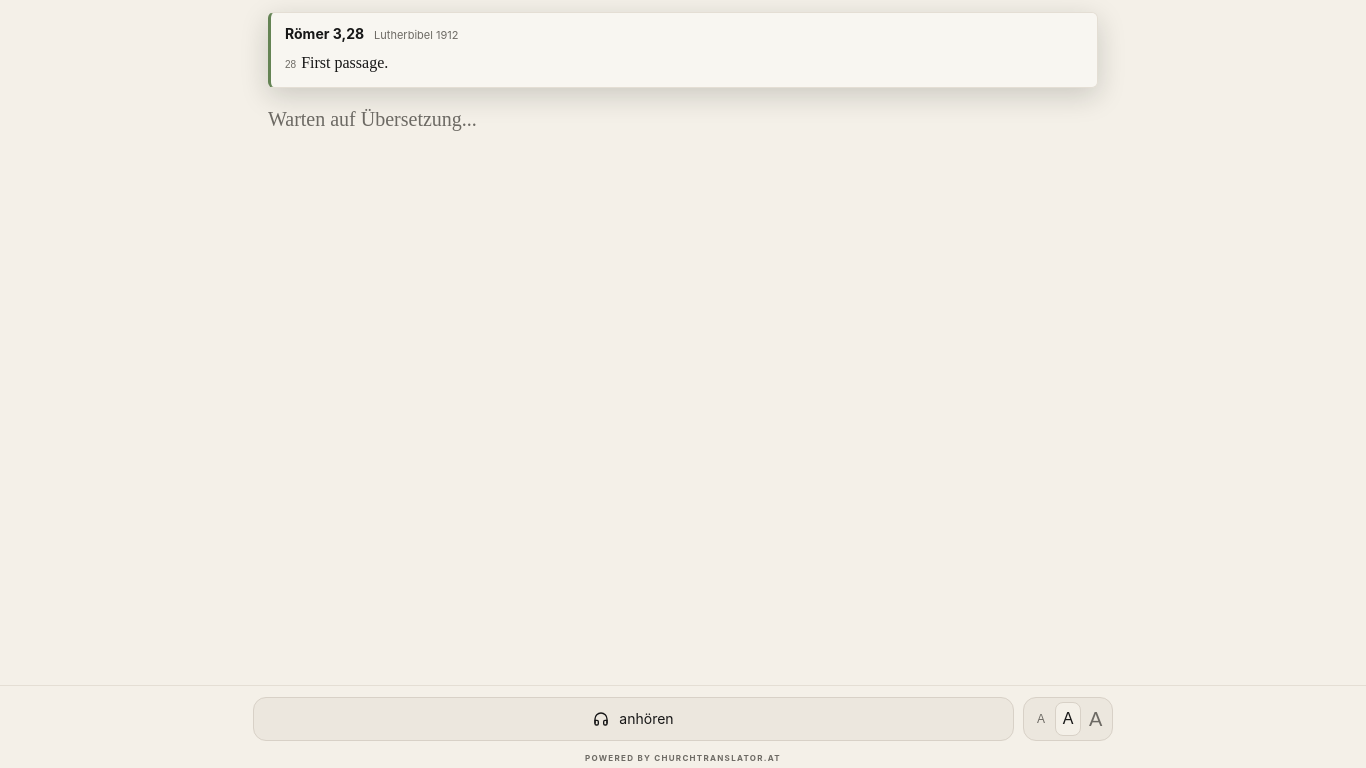
Scenario: Listener experience › shows a new scripture popup after the last card is clicked away
The width and height of the screenshot is (1366, 768).
Click the button with aria-label "Bibeltext schließen" at x=325, y=34, box [268, 12, 1098, 88]
Wait 460 ms
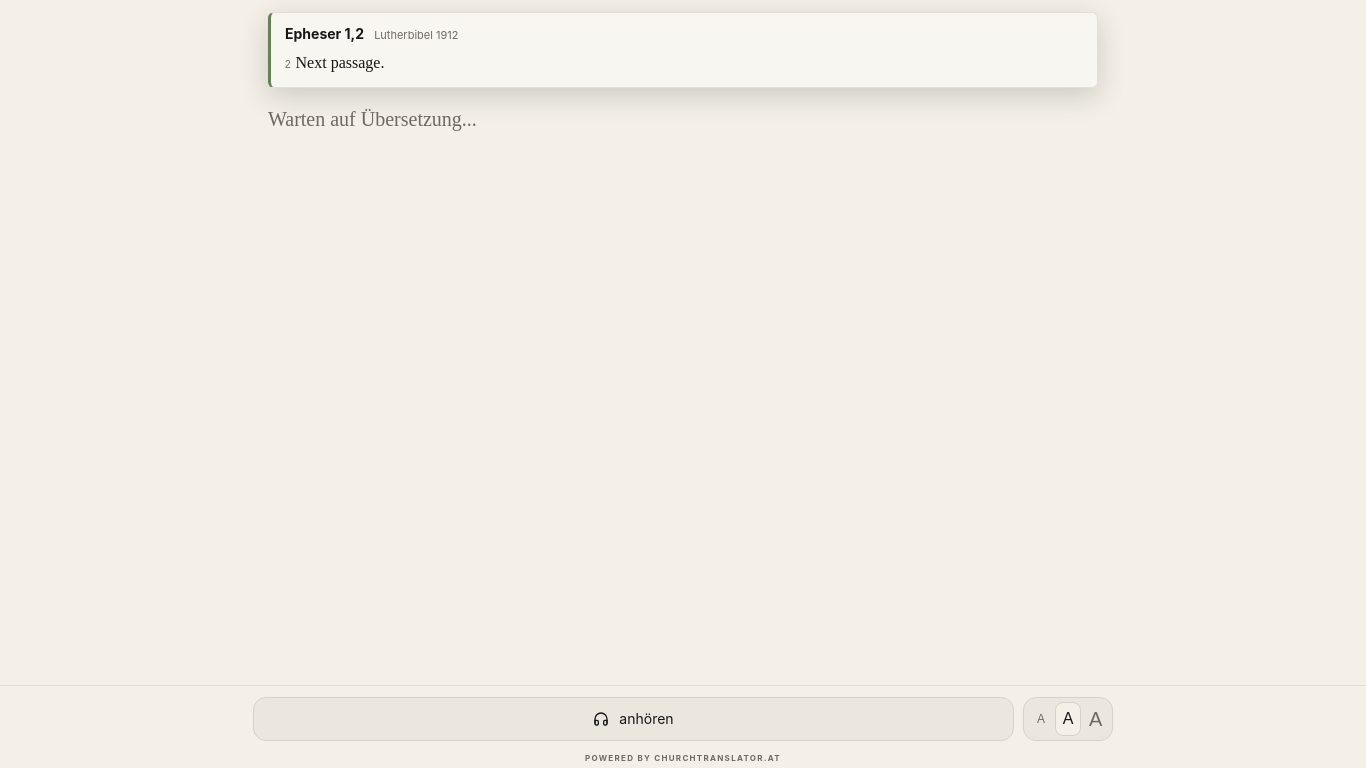
Expected: the button with aria-label "Bibeltext schließen" shows "Next passage.", [268, 12, 1098, 88]
